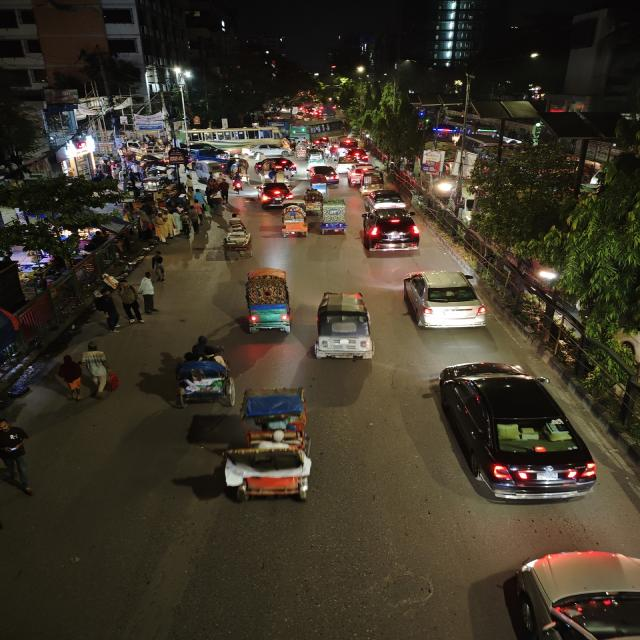bus: (290, 120, 347, 144)
car: (422, 357, 601, 507), (484, 545, 640, 640), (398, 267, 491, 335), (358, 208, 425, 256), (362, 188, 409, 210), (255, 180, 293, 207), (306, 164, 341, 183), (252, 142, 288, 158), (273, 158, 298, 175), (348, 147, 371, 163)
cng: (310, 289, 380, 366), (318, 198, 348, 238), (305, 150, 326, 166)
pedestrian: (0, 416, 43, 498), (77, 340, 117, 399), (53, 352, 87, 402), (90, 288, 123, 332), (116, 280, 145, 322), (136, 273, 162, 313), (152, 212, 175, 244), (148, 252, 169, 283), (187, 203, 206, 230), (177, 209, 195, 237), (165, 210, 182, 238), (218, 178, 234, 204)
rickshaw: (213, 384, 323, 508), (168, 337, 239, 409), (236, 266, 300, 336), (218, 215, 255, 261), (319, 197, 348, 240), (277, 203, 310, 240), (346, 164, 370, 188), (303, 187, 324, 211), (360, 171, 385, 190), (295, 142, 309, 158)
